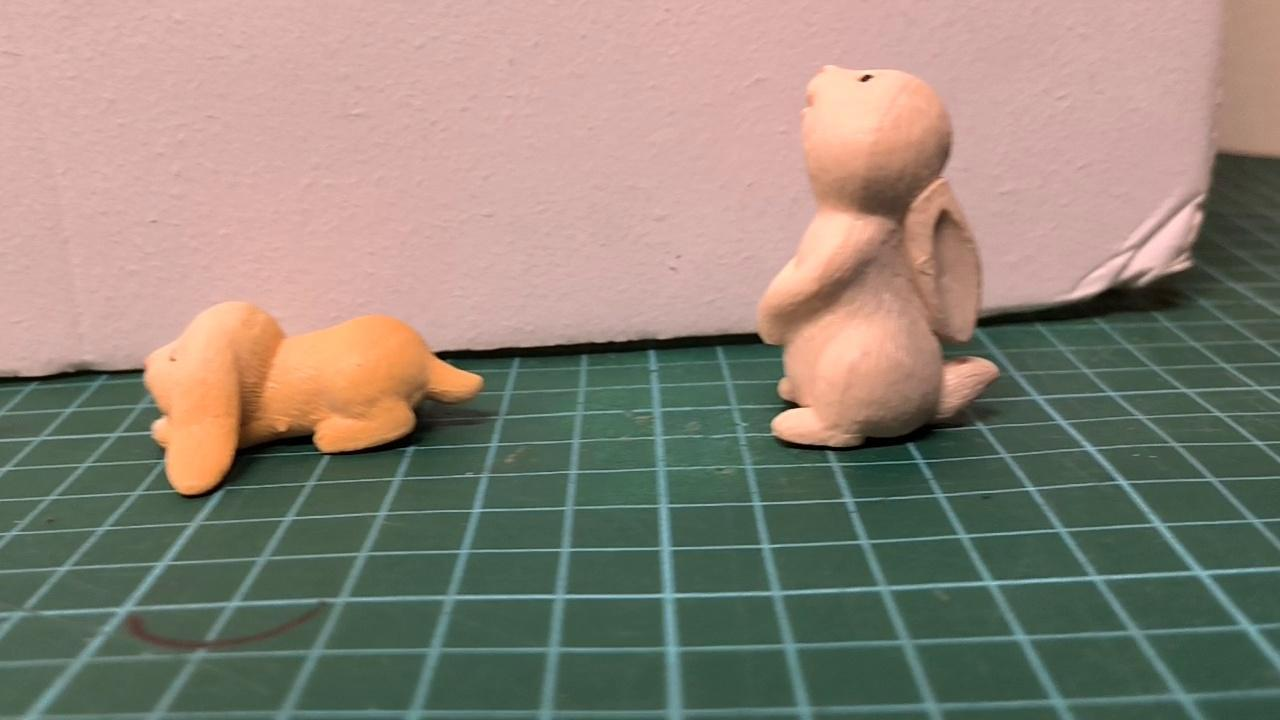pet: (754, 63, 998, 452), (145, 301, 484, 497)
